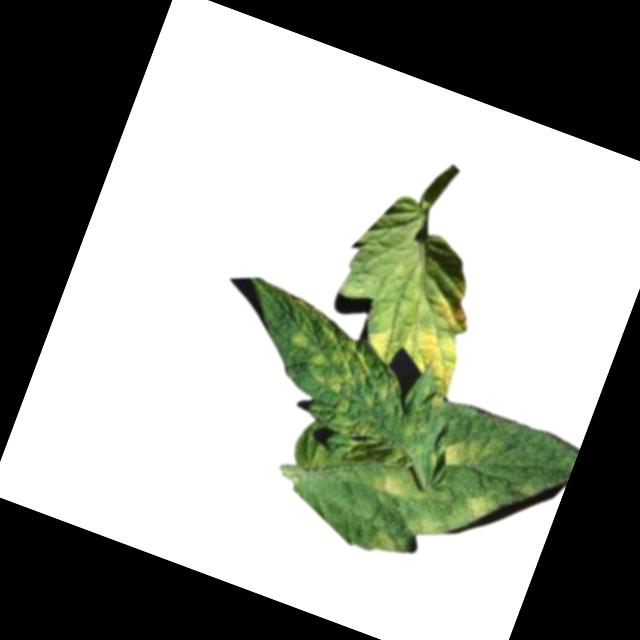Leaf_Mold: (255, 294, 425, 449), (358, 258, 491, 396), (436, 423, 499, 483), (446, 483, 500, 540), (369, 464, 423, 507), (364, 519, 412, 563), (428, 389, 449, 408)
